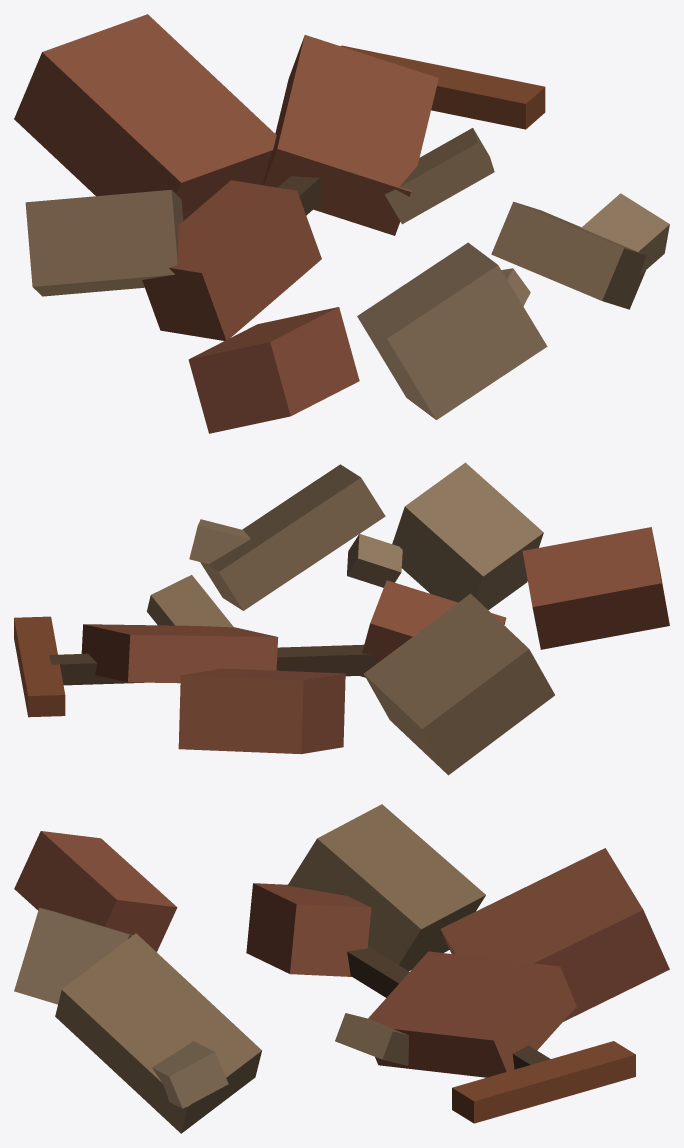
The model's file is TownJunkA.glb.
The picture shows the model from 3 angles, top to bottom: view 1: azimuth 30°, elevation 25°; view 2: azimuth 150°, elevation 25°; view 3: azimuth 270°, elevation 25°; orthographic projection. The views are drawn at different scales.
Parts seen in each view (by area): view 1: TownJunkA.001; view 2: TownJunkA.001; view 3: TownJunkA.001.
Part boxes in pixels (x1=…): TownJunkA.001: x1=14, y1=14, x2=669, y2=433; TownJunkA.001: x1=14, y1=462, x2=669, y2=775; TownJunkA.001: x1=14, y1=804, x2=669, y2=1133.
Bounding box in the file's own units: 1.2 × 0.3169 × 1.34.
